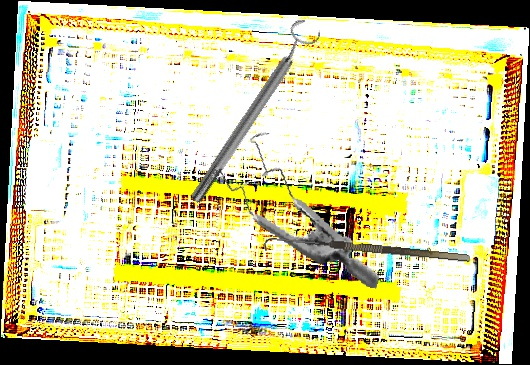Fixation Ring: (179, 15, 326, 210)
Hook Surgical: (263, 233, 471, 273)
Speculum: (195, 123, 404, 289)
